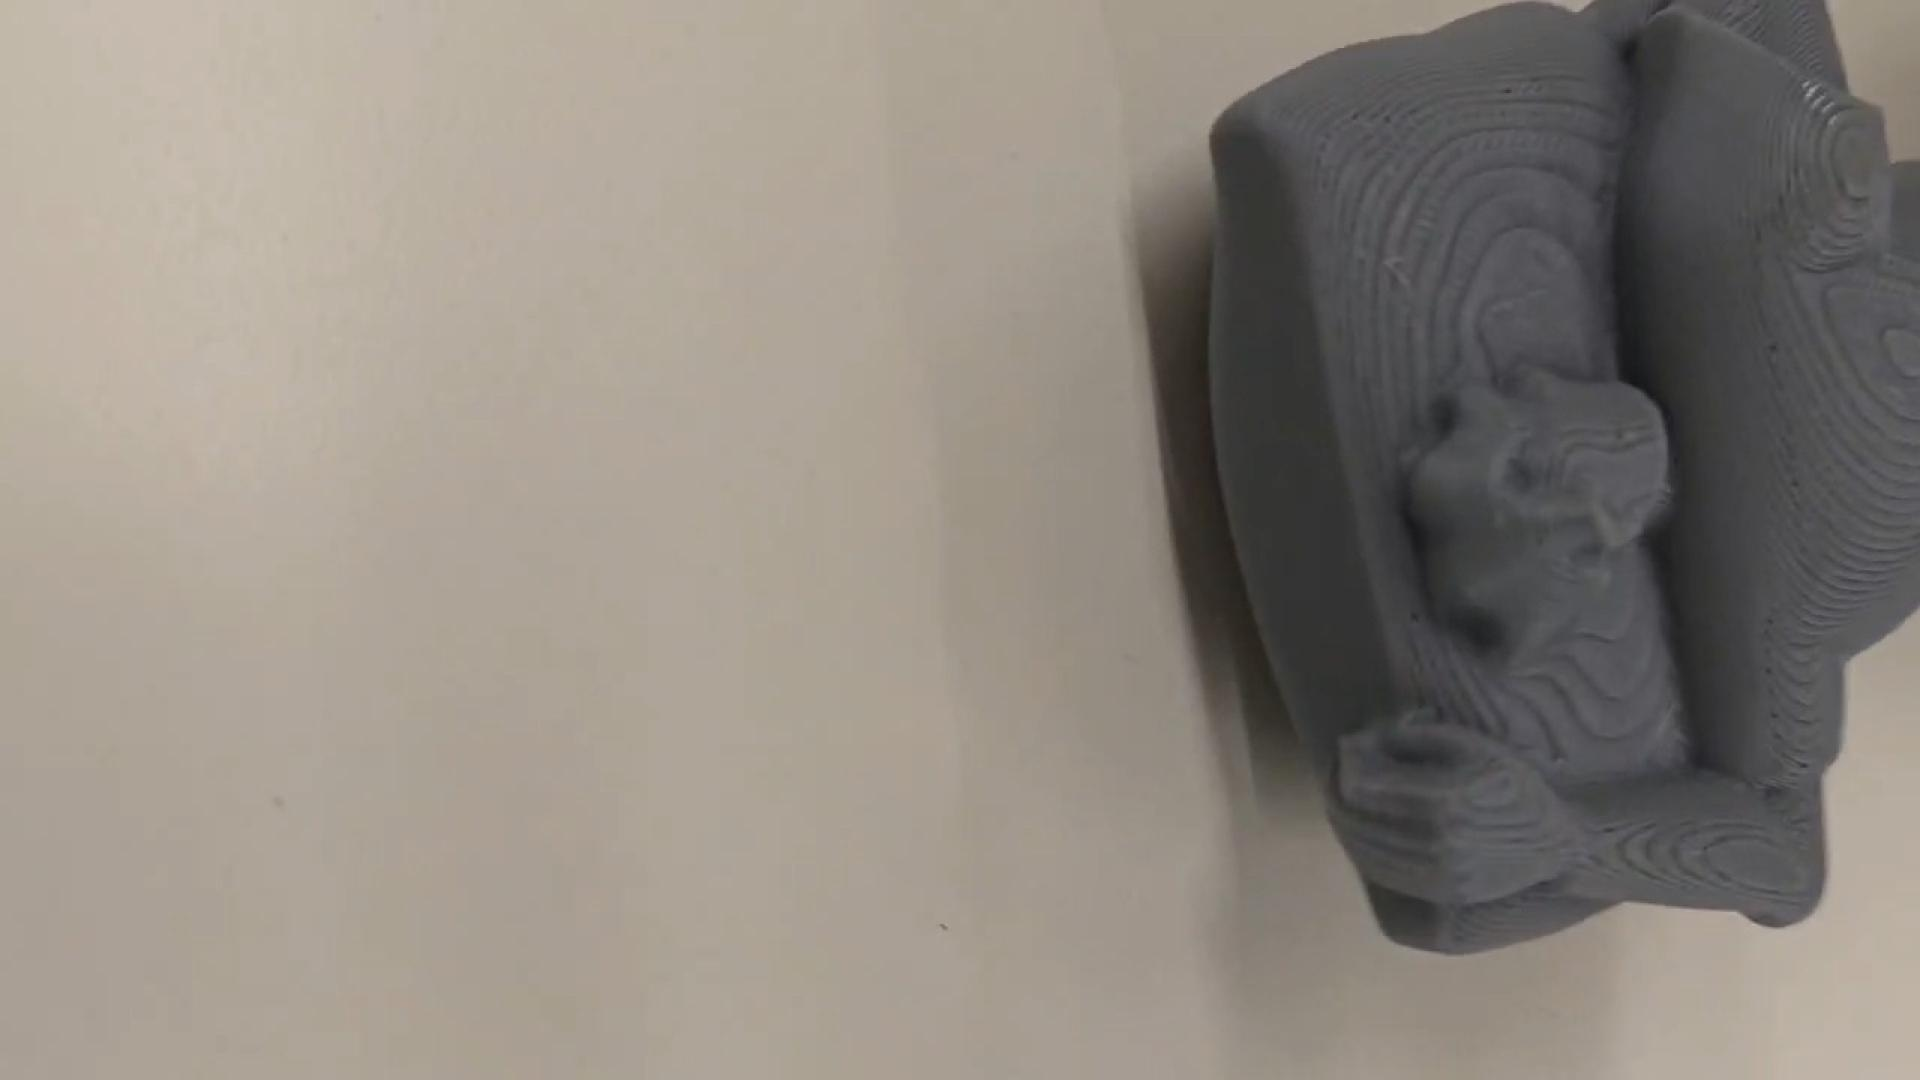Bad-style: (1197, 0, 1920, 964)
